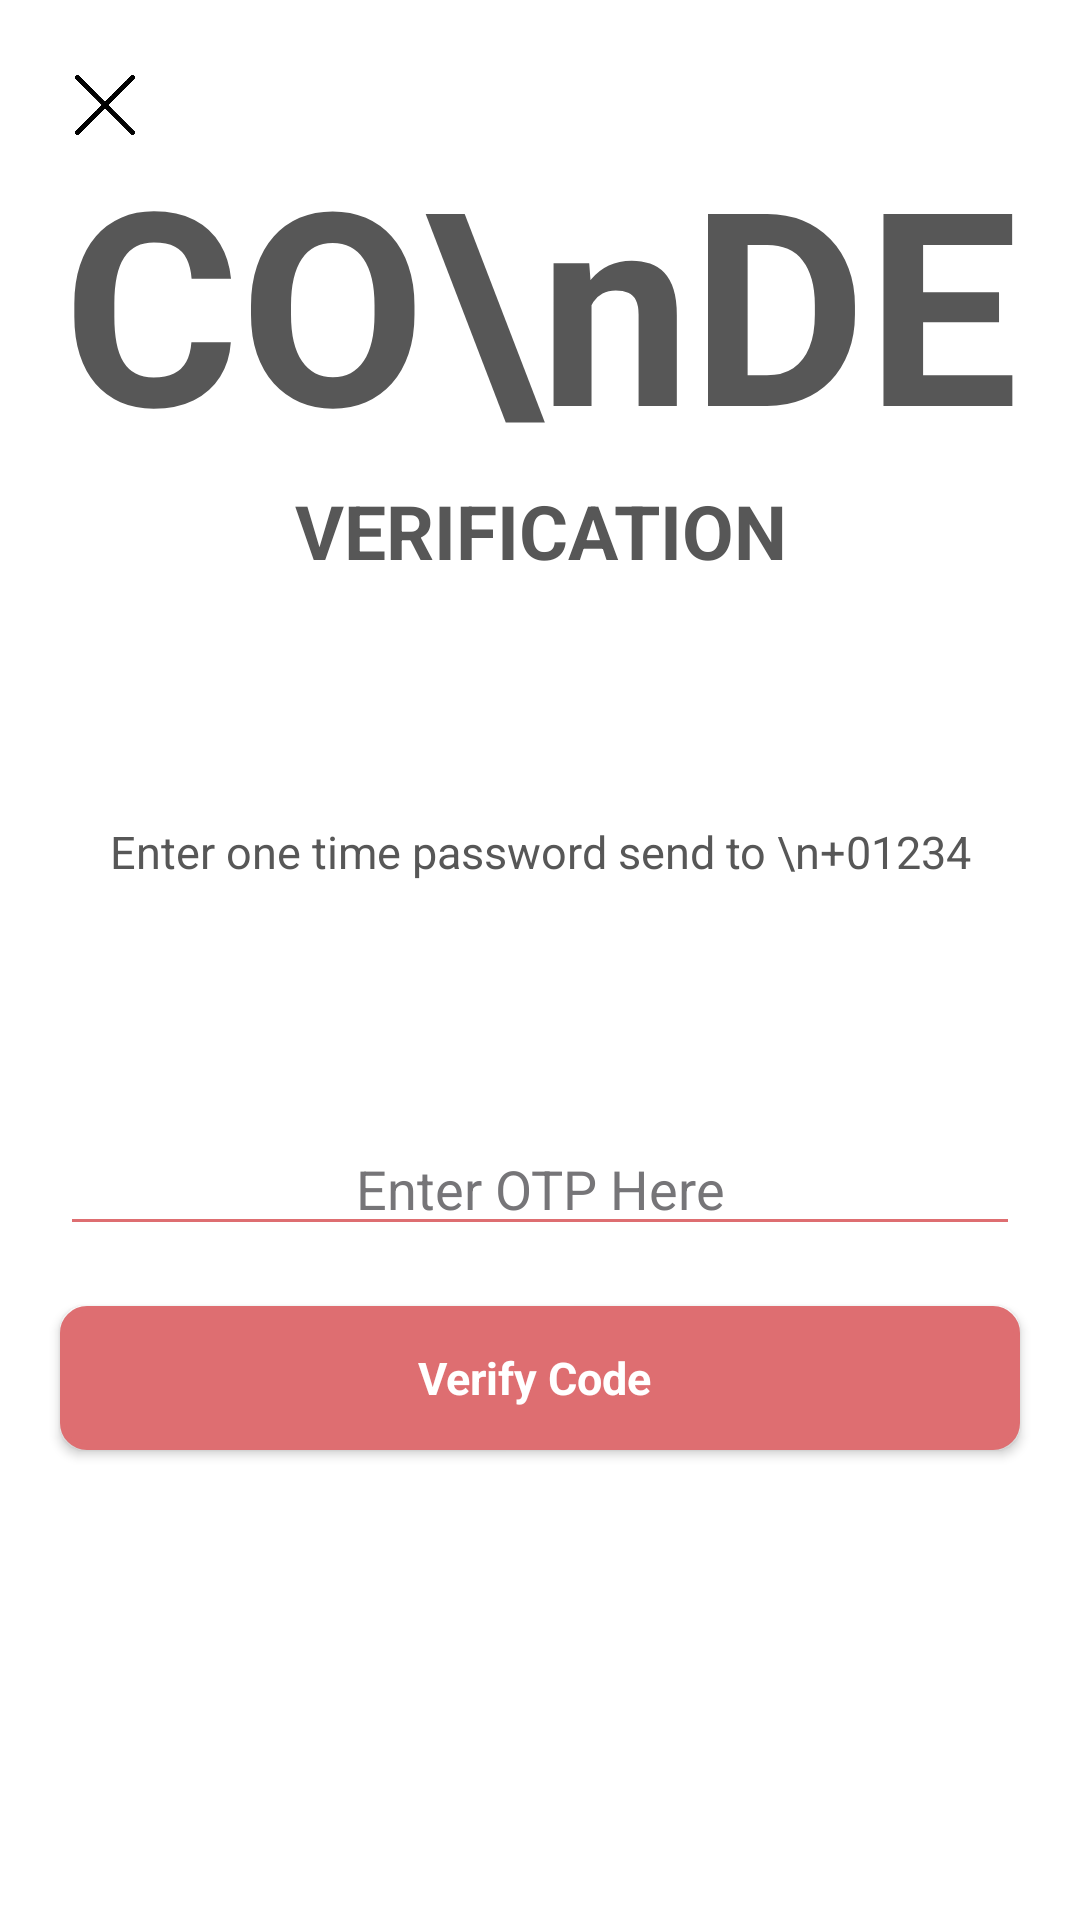

Named icons in this screenshot (1080x1920) and their bounding boxes, (x1, y1, x2, y2):
cancel: (75, 75, 135, 135)
